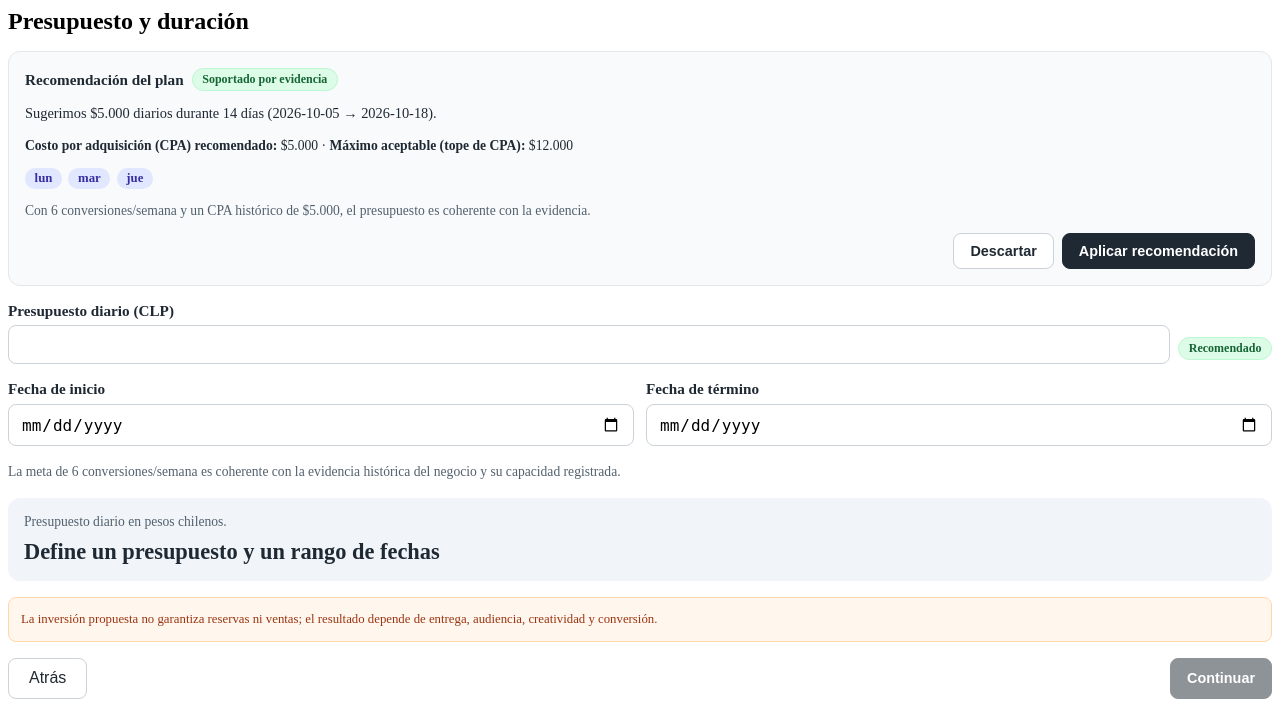
Scenario: BudgetStep › editar manualmente el dailyBudget cambia el badge a "Personalizado"
The image size is (1280, 720).
In the number field labelled "Presupuesto diario (CLP)": (589, 345) 8,325 -> 1170,364, type "6500"
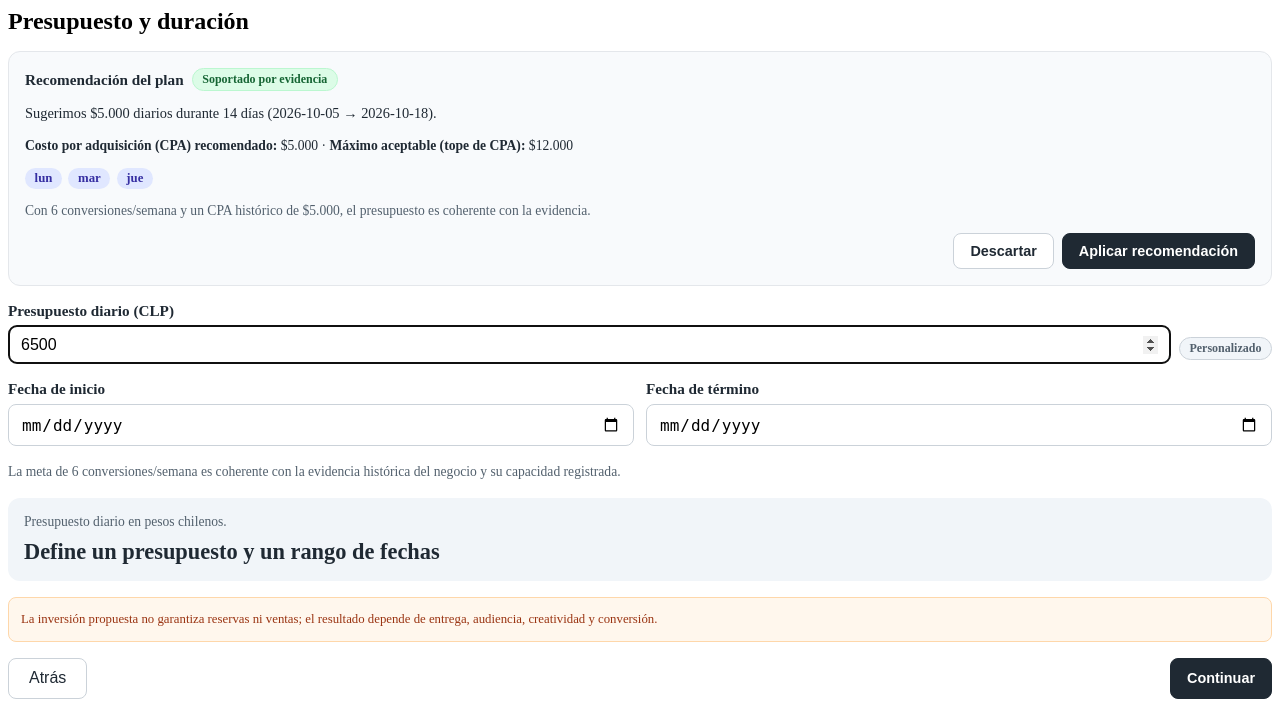
Now the text with test id "budget-daily-badge" reads "Personalizado", box 1189,341 -> 1261,355
